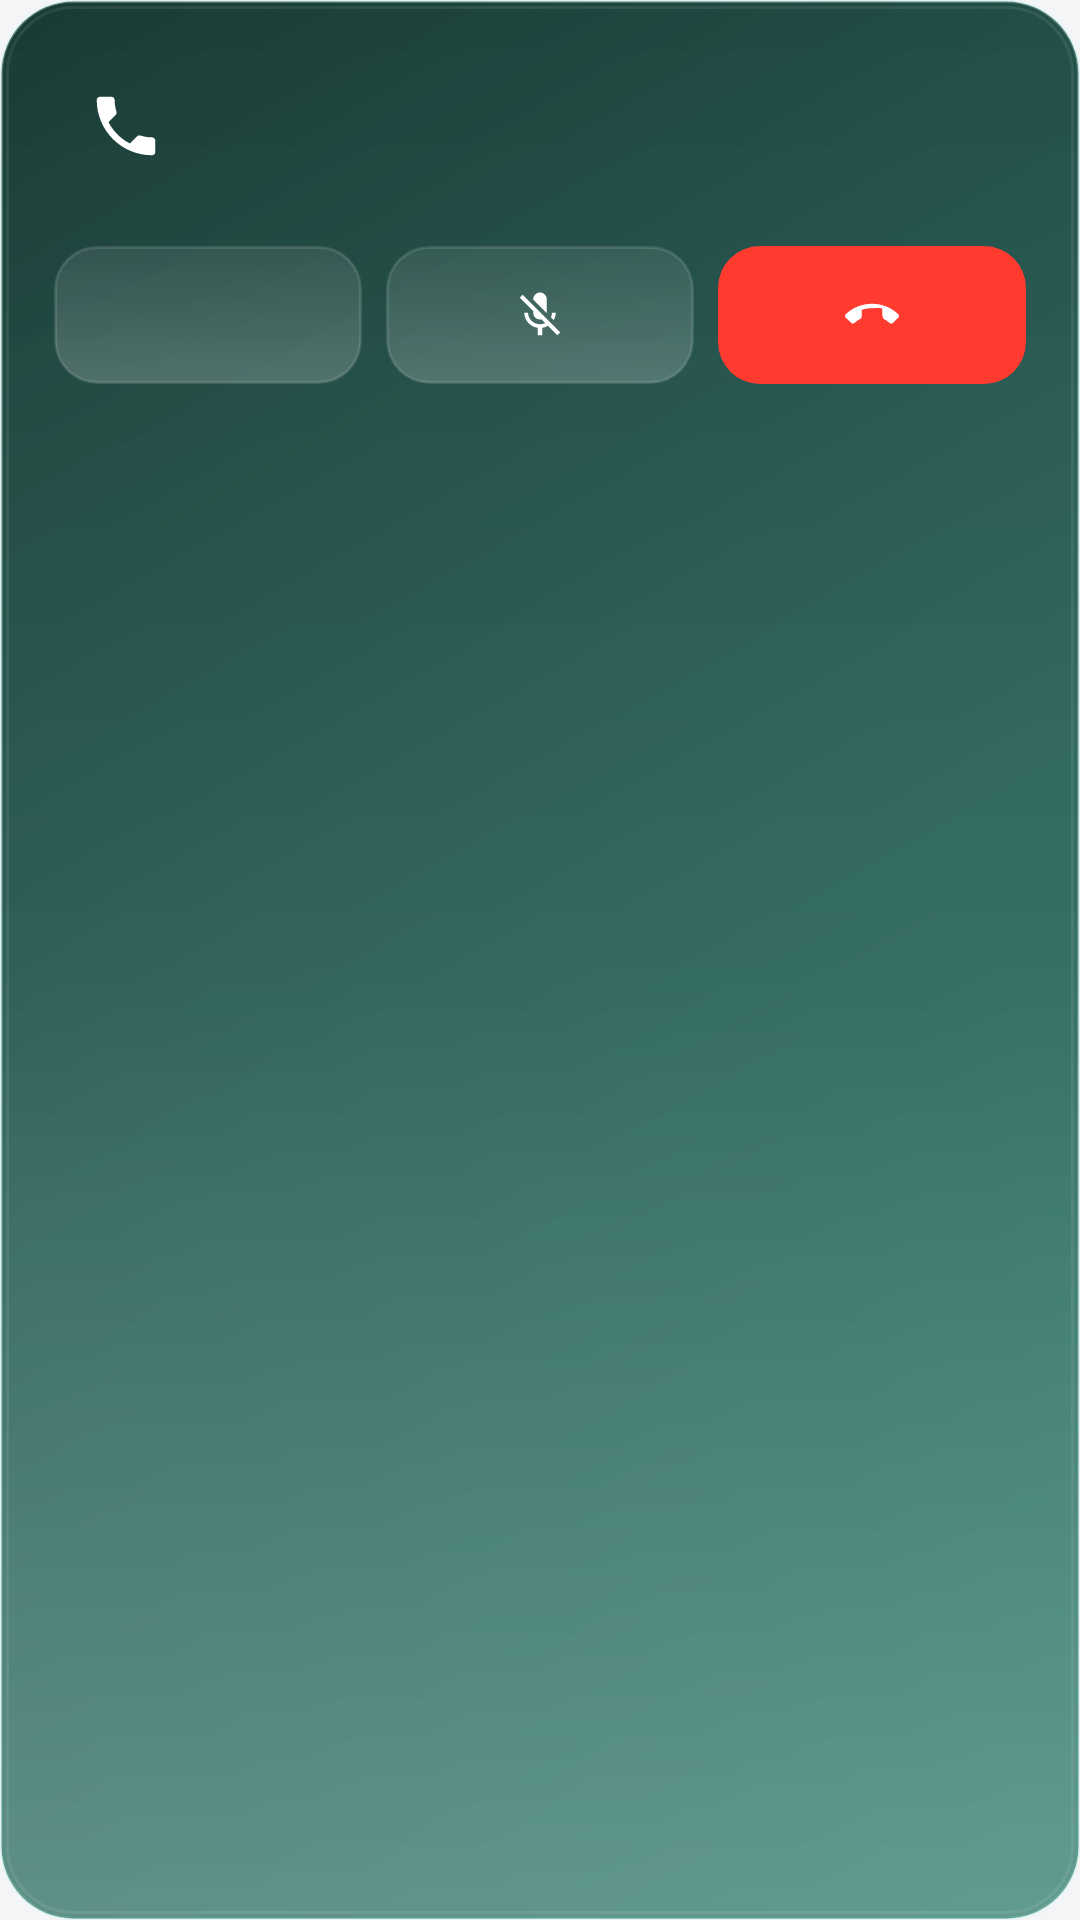

Where icons sit on this 1080px×1920px app screen, as bbox(x1, y1, x2, y2):
call notification: bbox(96, 96, 156, 156)
notif end call: bbox(845, 303, 899, 324)
notif mute: bbox(520, 292, 560, 336)
